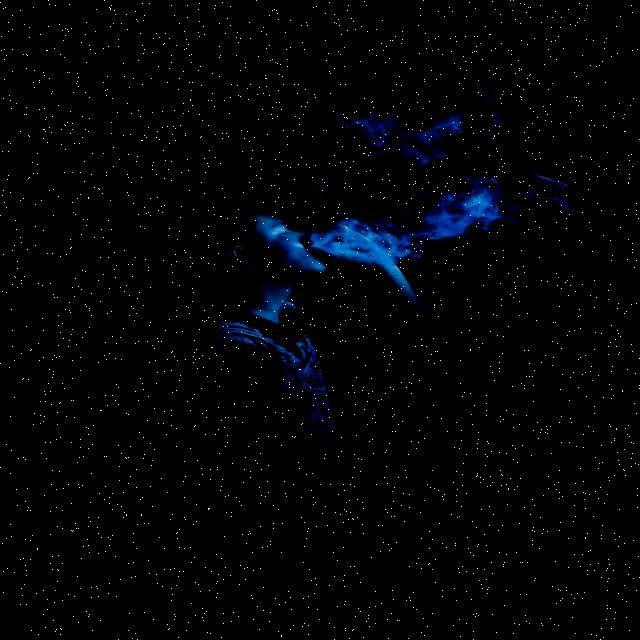smoke: (316, 150, 564, 270)
